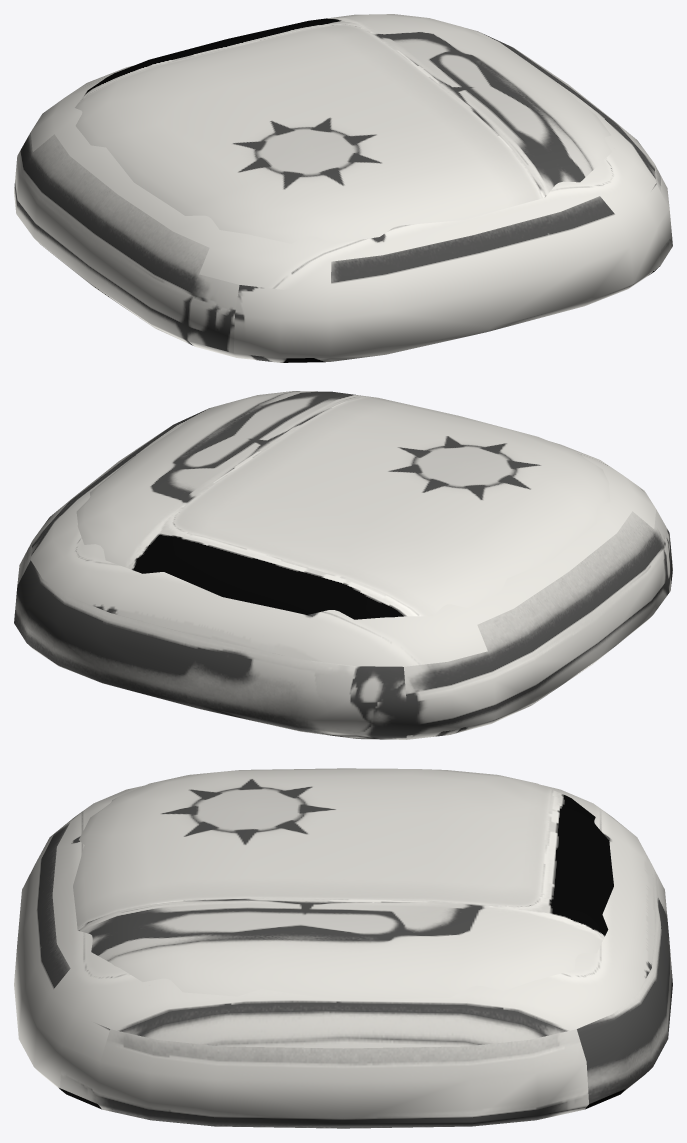
File: Centinela_HombreraIzq.fbx
The picture shows the model from 3 angles, top to bottom: view 1: azimuth 30°, elevation 25°; view 2: azimuth 150°, elevation 25°; view 3: azimuth 270°, elevation 25°; orthographic projection. The views are drawn at different scales.
Parts seen in each view (by area): view 1: Centinela_HombreraIzq; view 2: Centinela_HombreraIzq; view 3: Centinela_HombreraIzq.
Boxes of the visible parts, left/top/right/bottom form: Centinela_HombreraIzq: left=14, top=14, right=672, bottom=362; Centinela_HombreraIzq: left=14, top=391, right=672, bottom=739; Centinela_HombreraIzq: left=14, top=768, right=672, bottom=1128.
Size of the model in its own units: 1.28 by 0.306 by 1.28.
